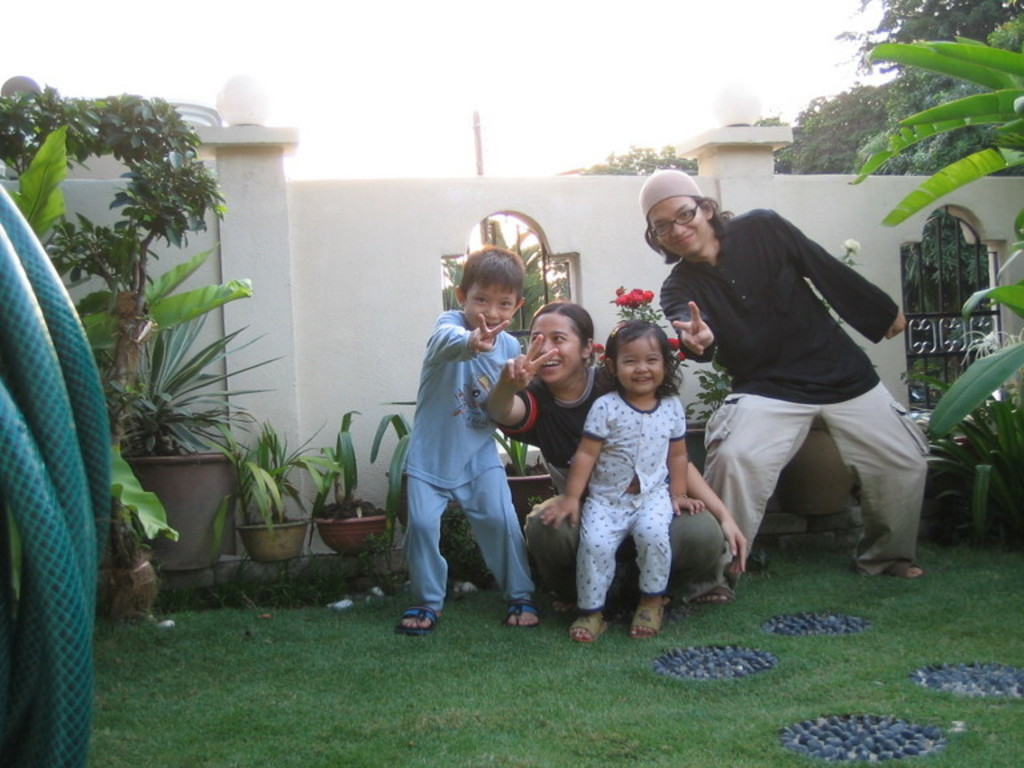Human-face: (529, 313, 583, 381), (647, 197, 708, 257), (615, 335, 664, 395), (464, 283, 515, 329)
